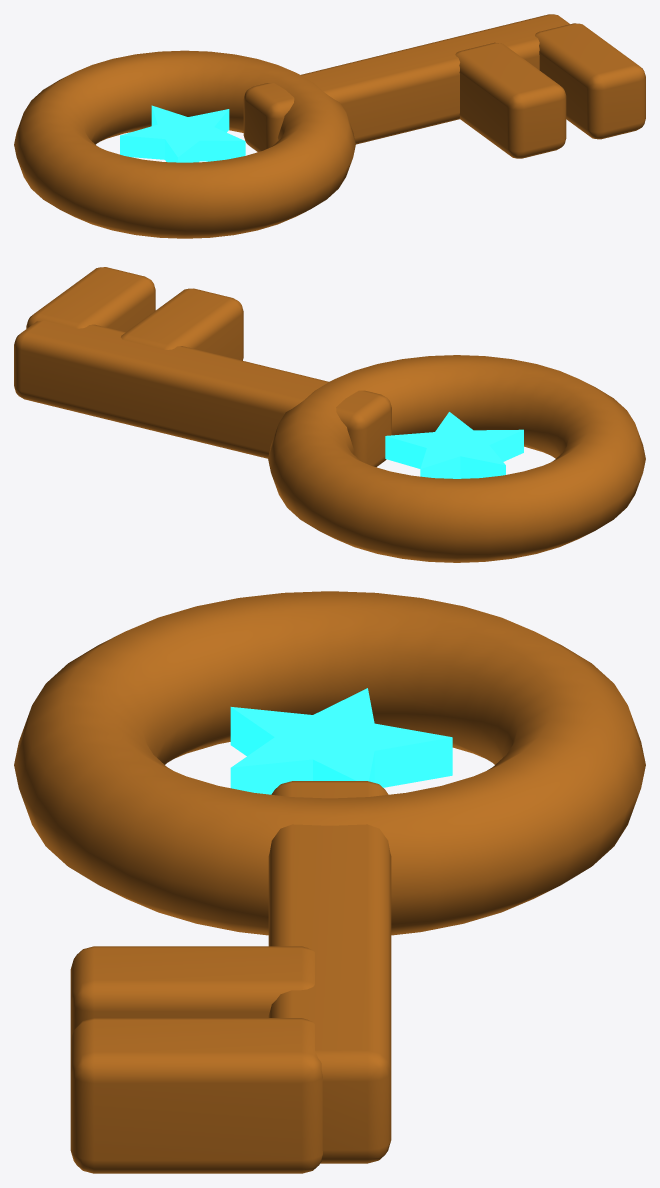
File: star_key.glb
3 renders of one model, top to bottom at view 1: azimuth 30°, elevation 25°; view 2: azimuth 150°, elevation 25°; view 3: azimuth 270°, elevation 25°, orthographic. The views are drawn at different scales.
Visible parts, largest first — view 1: key_bow, key_shaft, key_tooth, key_tooth.001, key_star; view 2: key_bow, key_shaft, key_star, key_tooth, key_tooth.001; view 3: key_bow, key_tooth.001, key_shaft, key_tooth, key_star.
Boxes of the visible parts, x1,y1,x2,y2 form: key_bow: (14,50,355,238); key_shaft: (243,14,569,151); key_tooth: (455,42,566,158); key_tooth.001: (535,23,645,139); key_star: (120,105,245,162); key_bow: (268,355,645,562); key_shaft: (14,320,391,467); key_star: (385,412,523,478); key_tooth: (121,288,243,360); key_tooth.001: (26,267,155,331); key_bow: (14,591,645,935); key_tooth.001: (70,1018,322,1173); key_shaft: (268,781,391,1163); key_tooth: (70,946,314,1040); key_star: (230,688,452,794).
Size of the model in its own units: 1.23 by 0.1427 by 0.67.
